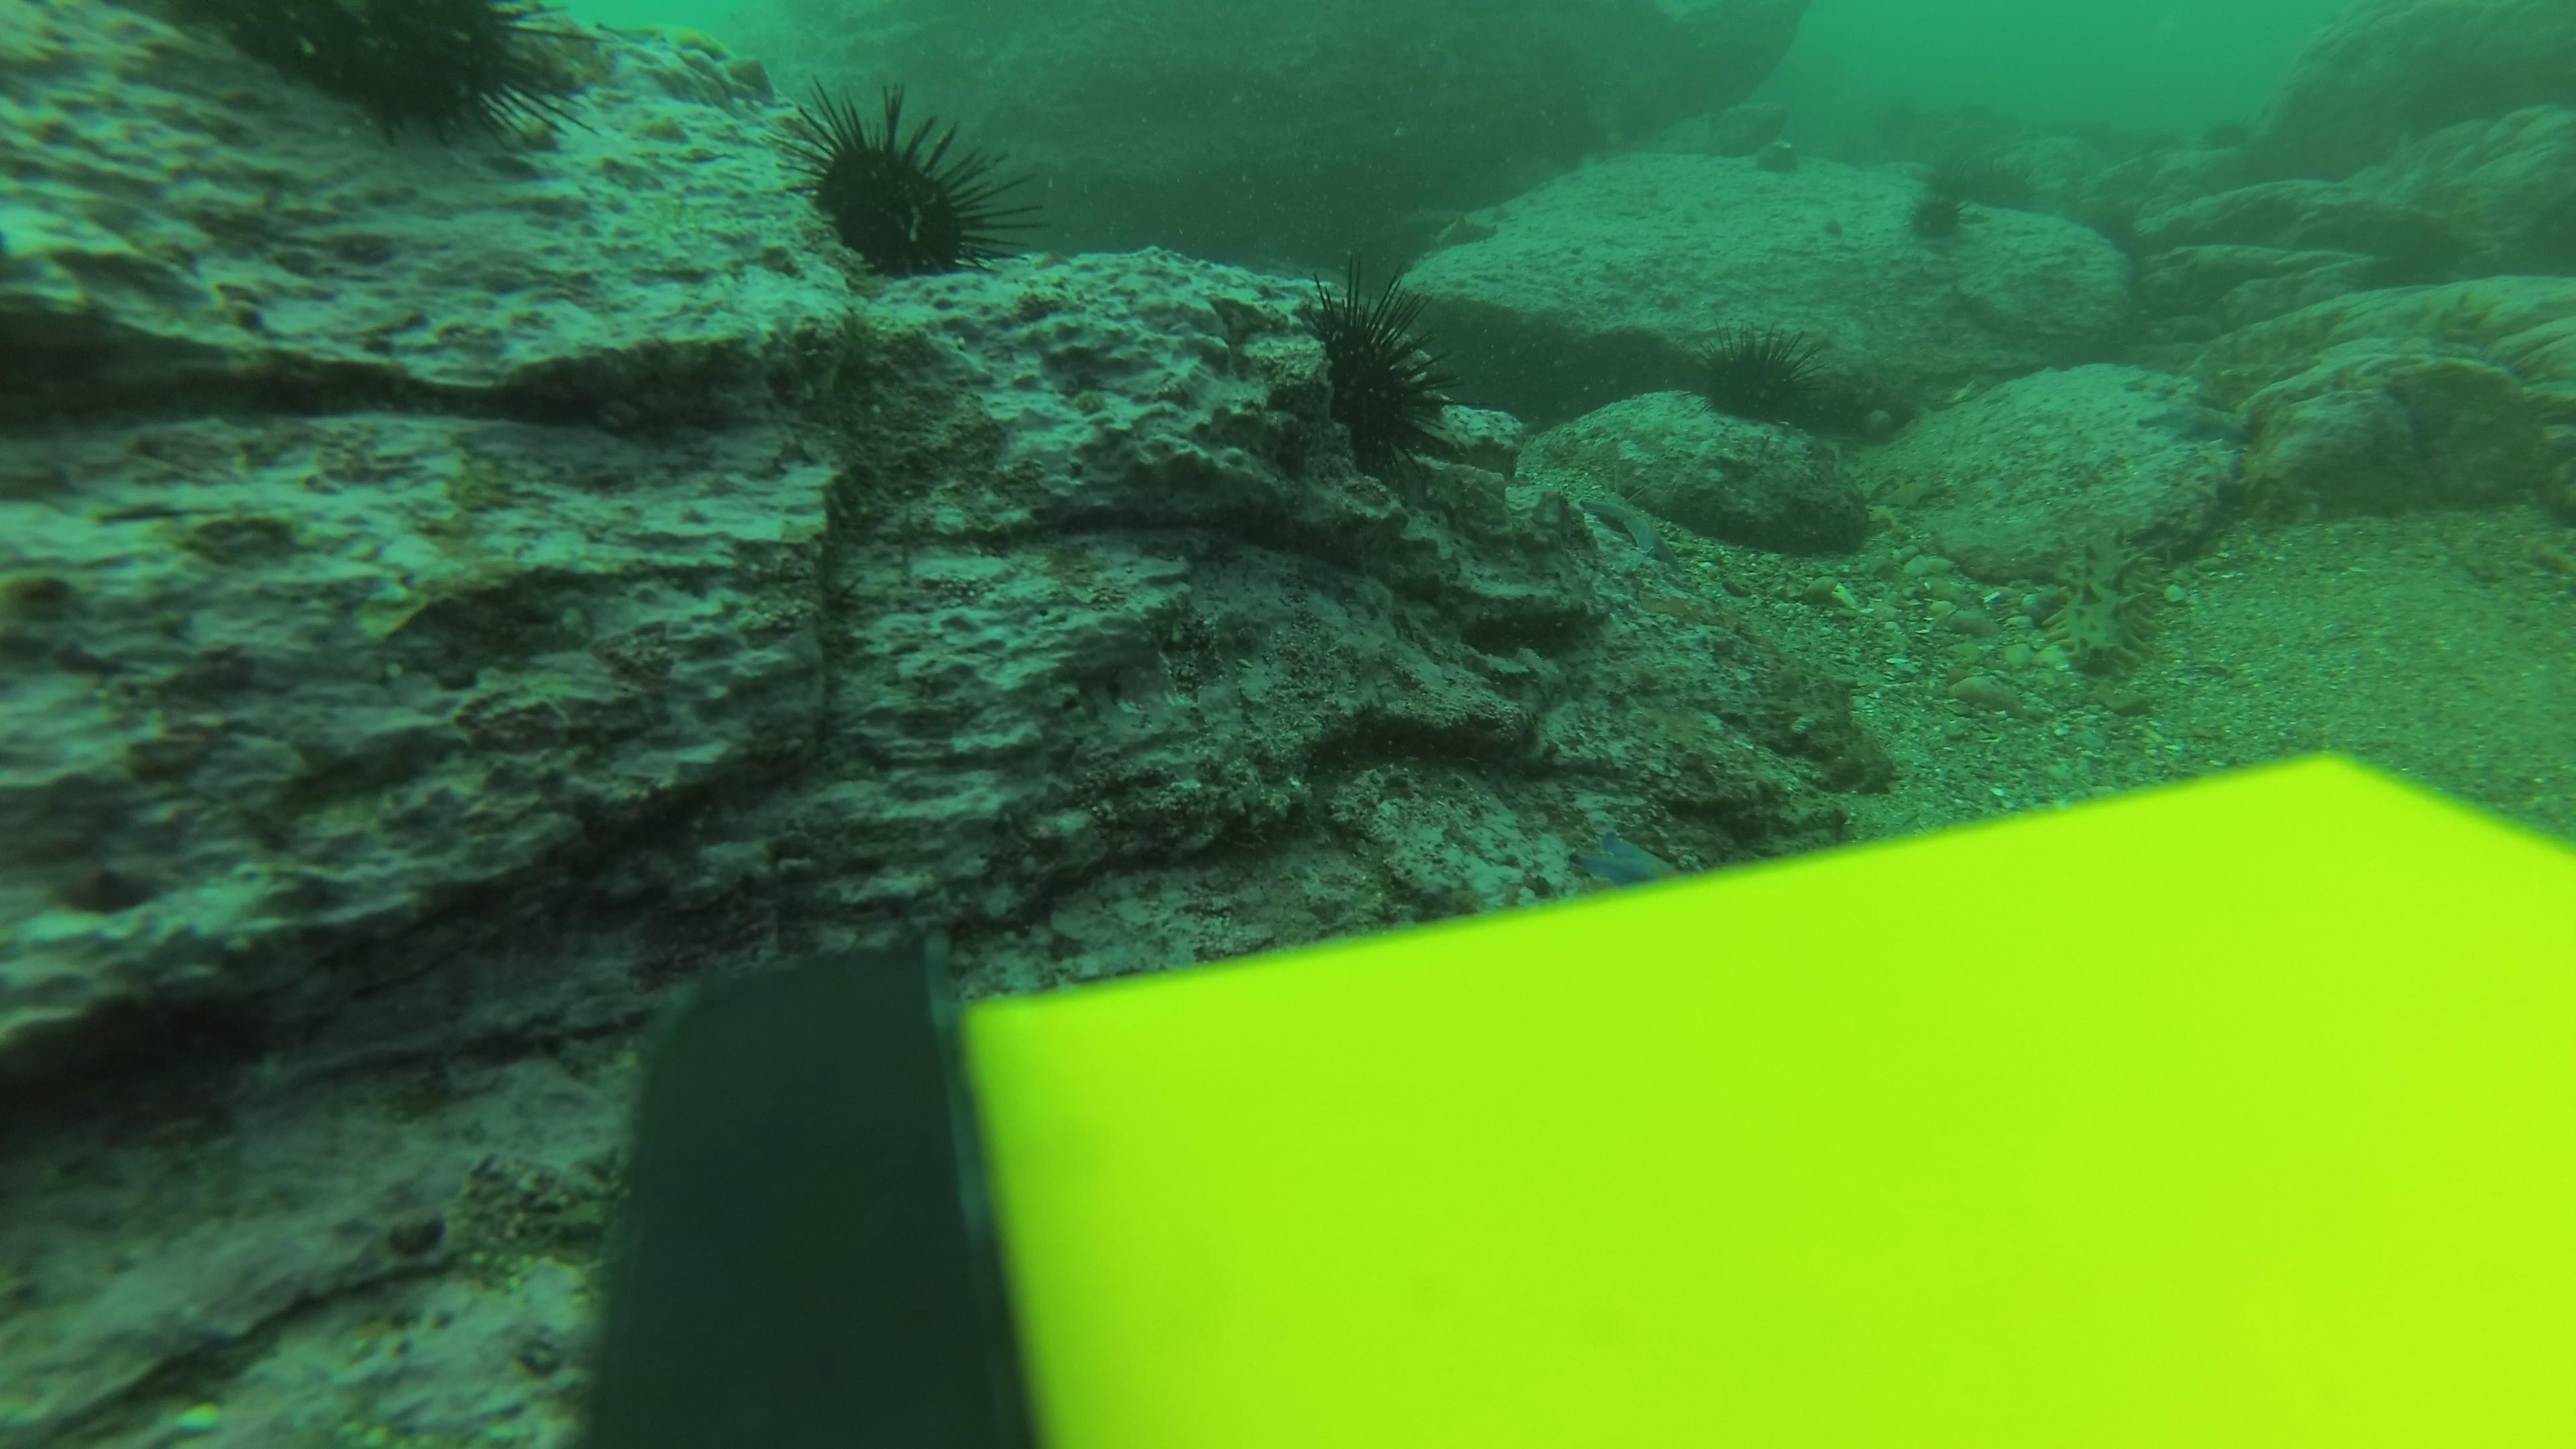echinus: (161, 4, 579, 159), (777, 78, 1030, 288), (1293, 274, 1461, 488), (1691, 327, 1826, 437), (1898, 175, 1983, 253)
holothurian: (2042, 522, 2178, 686)
starfish: (580, 14, 782, 103), (1568, 478, 1695, 570), (1566, 821, 1684, 888), (2130, 389, 2258, 451), (1421, 202, 1507, 255)
